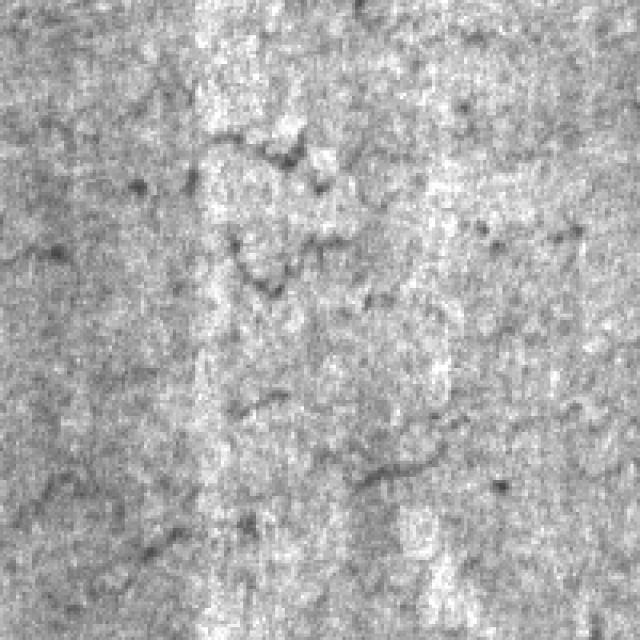crazing: (115, 96, 576, 317), (0, 419, 291, 621)
